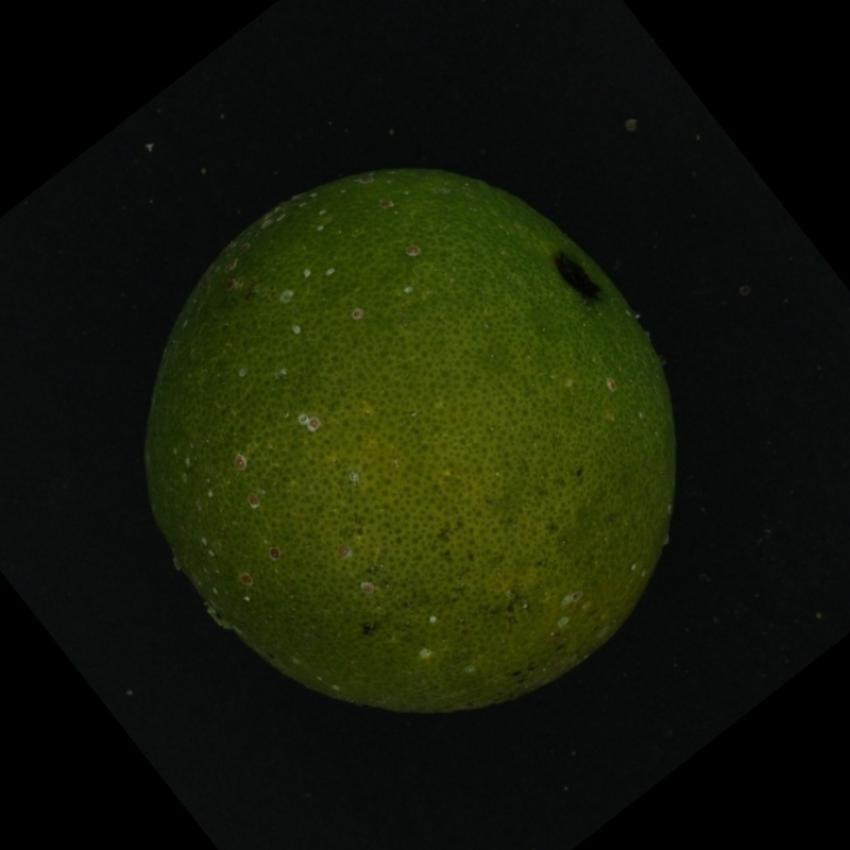Mal estado: (126, 146, 688, 726)
